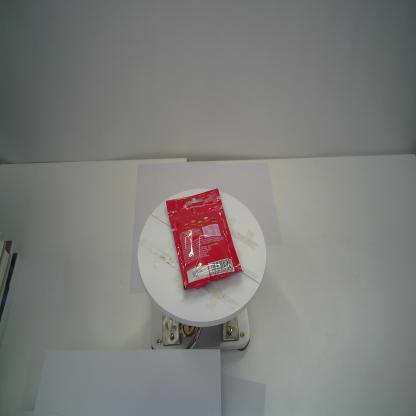Candy: (166, 187, 244, 290)
